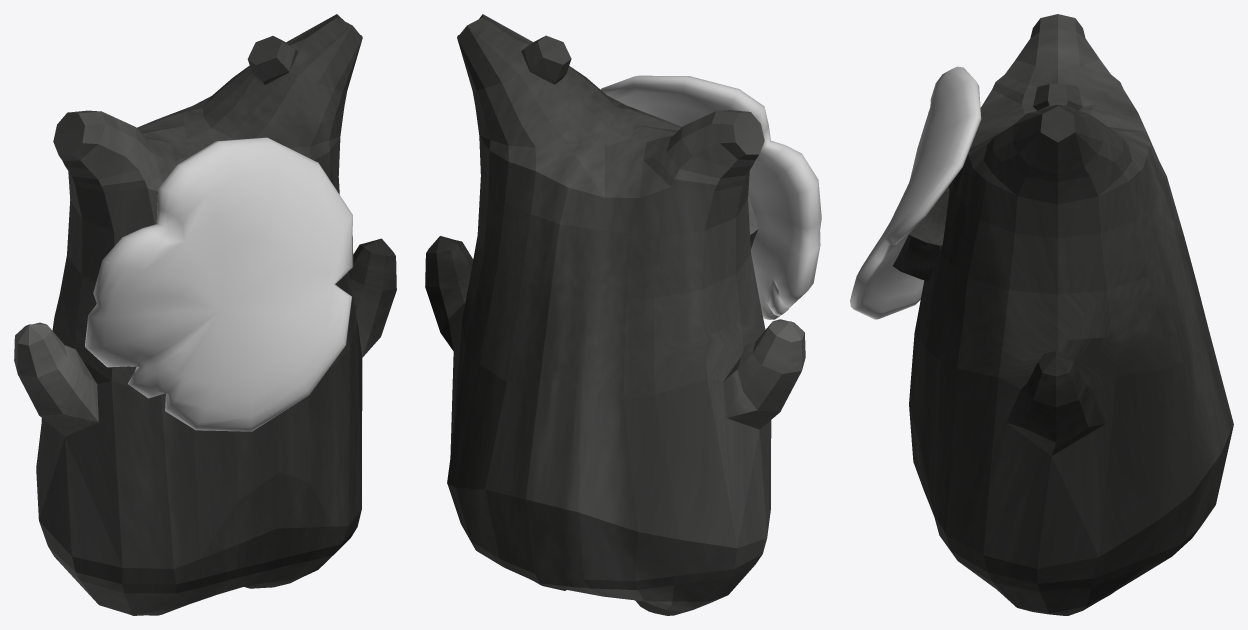
File: frame_0063.obj
3 views of the same model, side by side, from view 1: azimuth 30°, elevation 25°; view 2: azimuth 150°, elevation 25°; view 3: azimuth 270°, elevation 25° (orthographic).
Parts seen in each view (by area): view 1: korok, leaf; view 2: korok, leaf; view 3: korok, leaf, nose.
Boxes of the visible parts, x1,y1,x2,y2 form: korok: (14,14,396,615); leaf: (85,137,353,431); korok: (425,14,805,615); leaf: (600,75,821,319); korok: (909,14,1233,615); leaf: (850,66,981,319); nose: (893,186,949,281).
Bounding box in the file's own units: 1.54 × 2.15 × 1.38.
